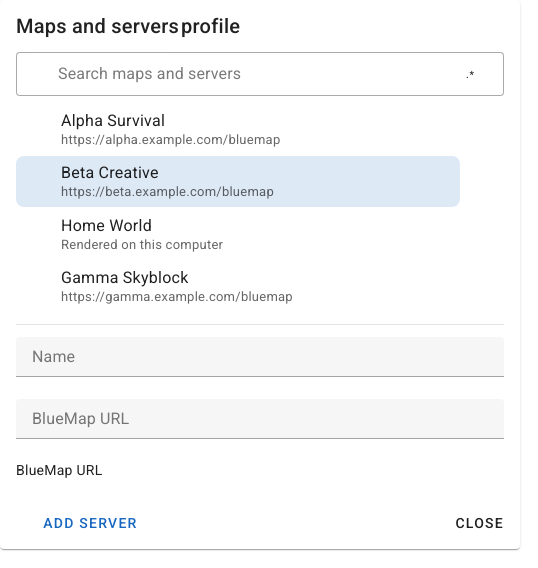
Test: editing one map's appearance › offers the row's own commands above the appearance ones, rather than instead of them
Right-click the option "Beta Creative https://beta.example.com/bluemap" at [238, 182], box [16,156,460,207]
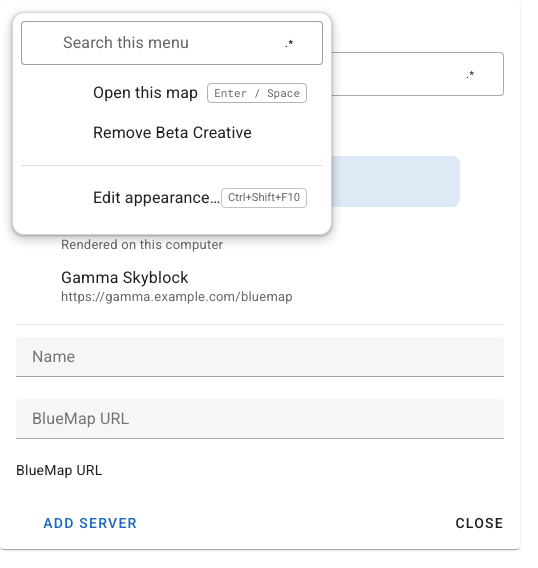
Check: the element with class "mb-appearance-target__menu" shows "Open this map", box [93,83,198,102]
Check: the element with class "mb-appearance-target__menu" shows "Remove Beta Creative", box [93,123,252,142]
Check: the element with class "mb-appearance-target__menu" shows "Edit appearance...", box [93,188,223,207]
